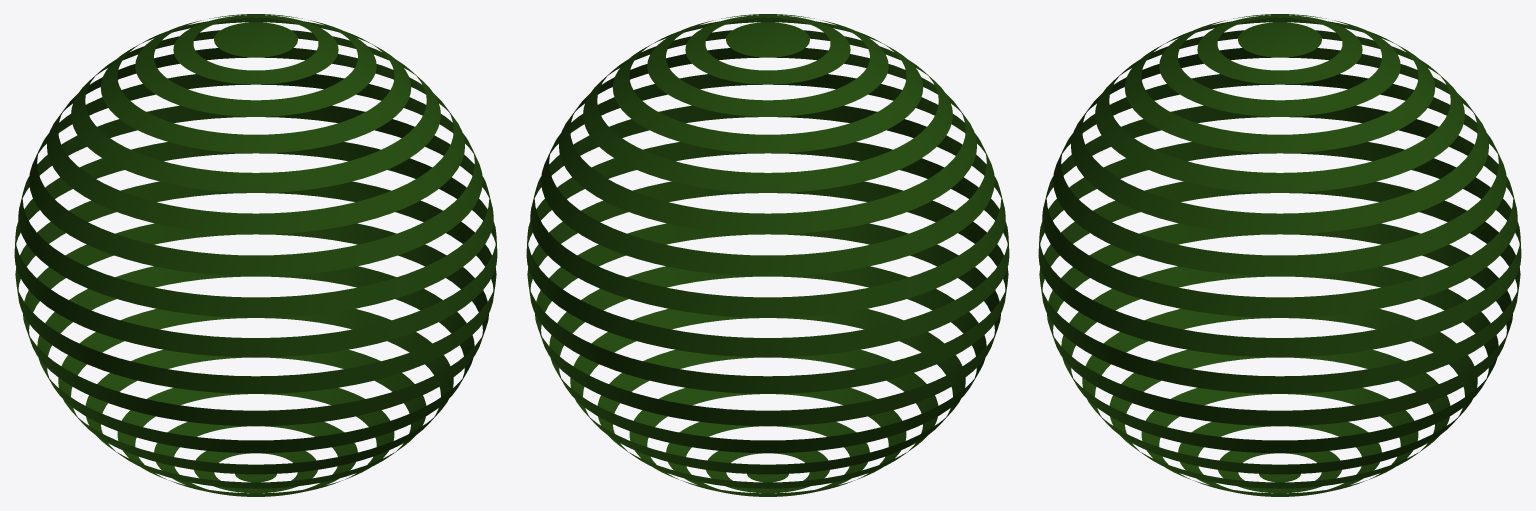
Rendered from qiu.glb.
3 views of the same model, side by side, from view 1: azimuth 30°, elevation 25°; view 2: azimuth 150°, elevation 25°; view 3: azimuth 270°, elevation 25° (orthographic).
Visible parts, largest first — view 1: qq; view 2: qq; view 3: qq.
Part boxes in pixels (bbox=[...]): qq: bbox=[14, 14, 497, 496]; qq: bbox=[526, 14, 1009, 496]; qq: bbox=[1038, 14, 1521, 496].
Bounding box in the file's own units: 200 × 200 × 200.
